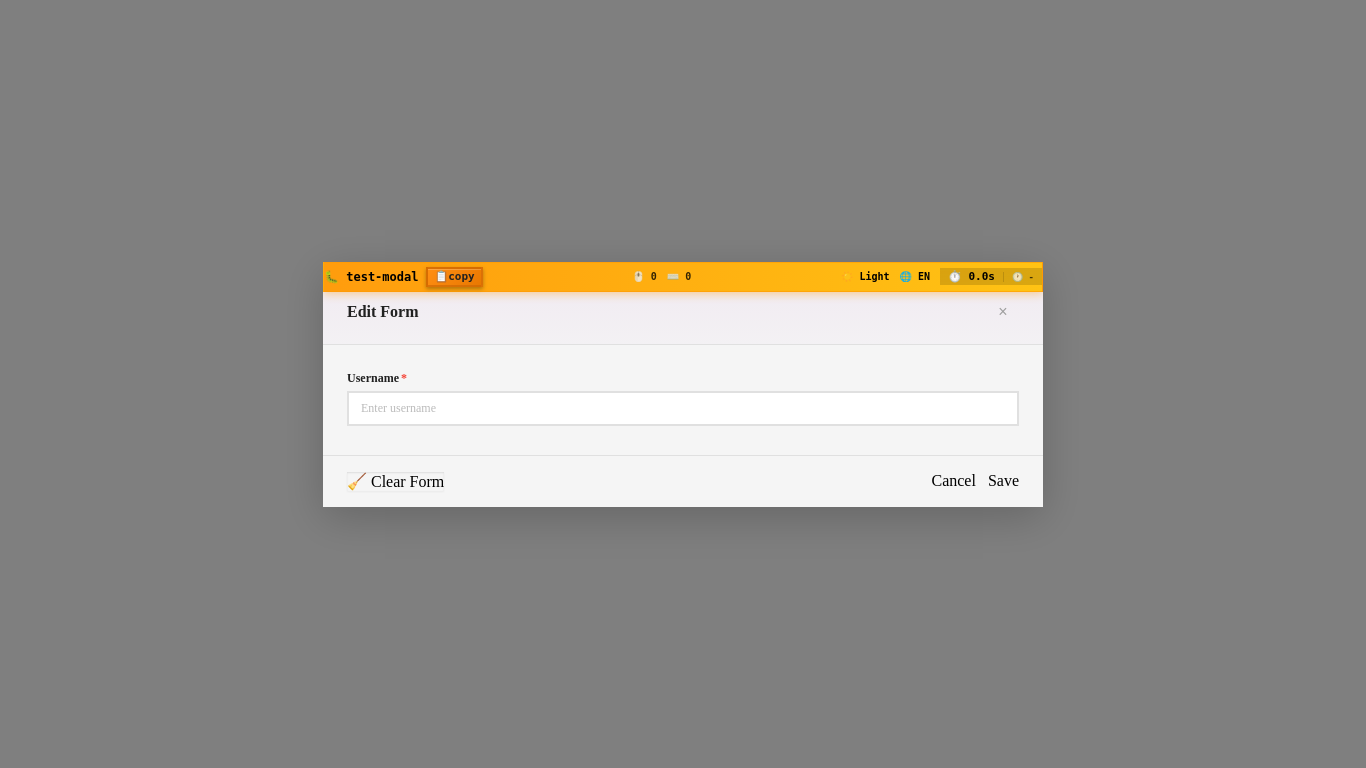
Test case: SectionEditModal › Translation Support › Clear confirmation modal displays English text when language = en
Click the button with test id "section-edit-modal-clear".
click(396, 481)  # box left=347, top=472, right=444, bottom=490
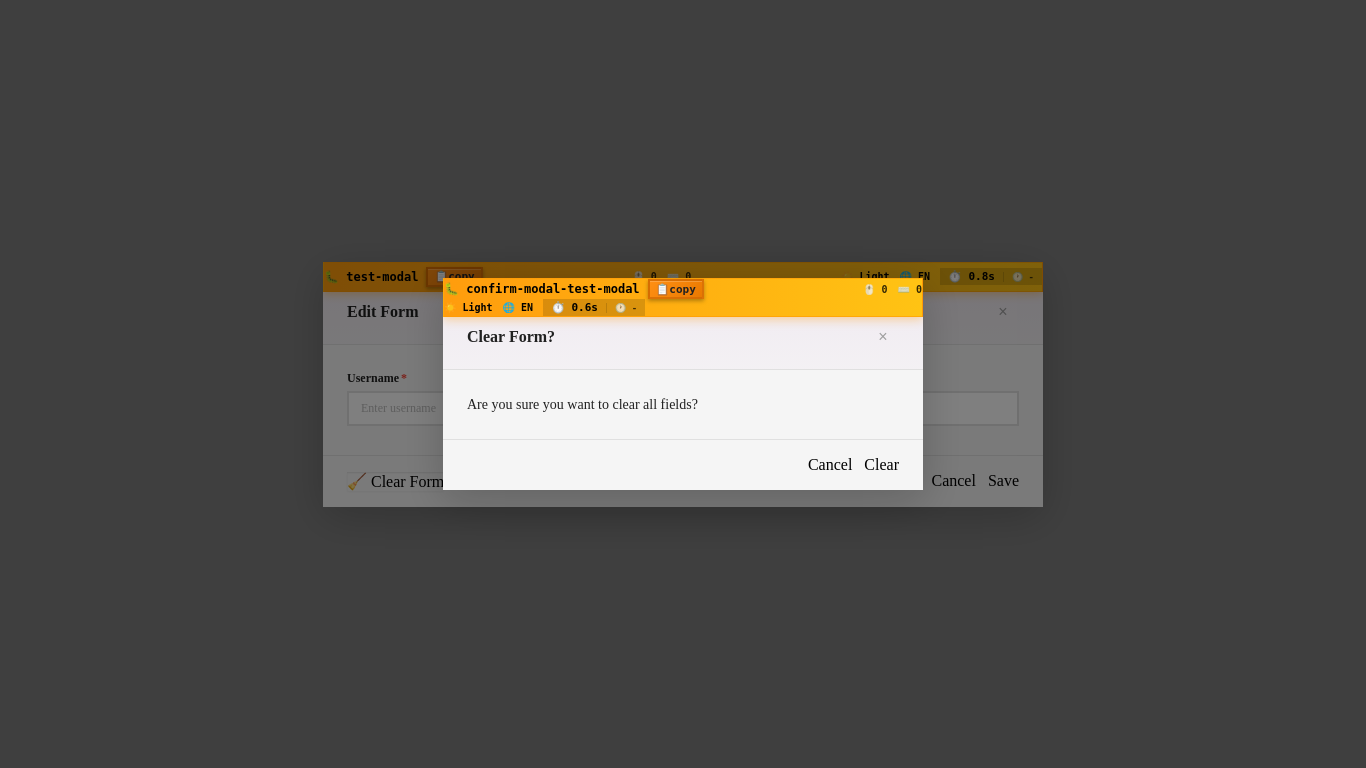
Result: the heading "Clear Form?" is shown at left=467, top=328, right=555, bottom=346
Result: the text "Are you sure you want to clear all fields?" is shown at left=467, top=397, right=698, bottom=412
